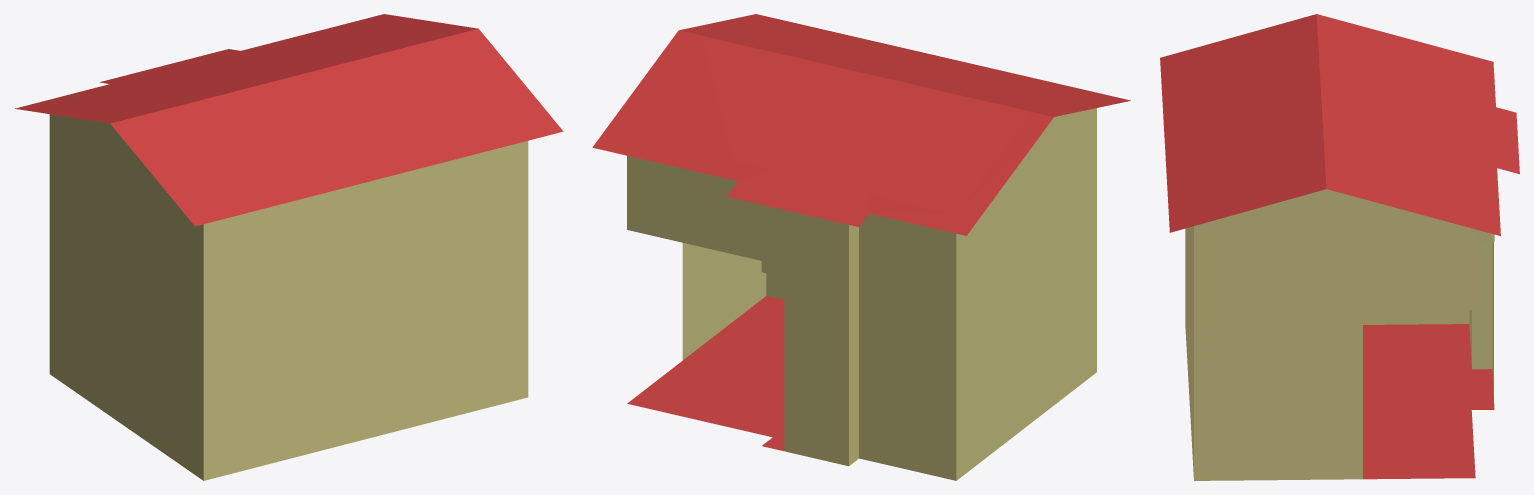
3 views of the same model, side by side, from view 1: azimuth 30°, elevation 25°; view 2: azimuth 150°, elevation 25°; view 3: azimuth 270°, elevation 25° (orthographic). The views are drawn at different scales.
Bounding box in the file's own units: 12.78 × 10.9 × 10.06.
